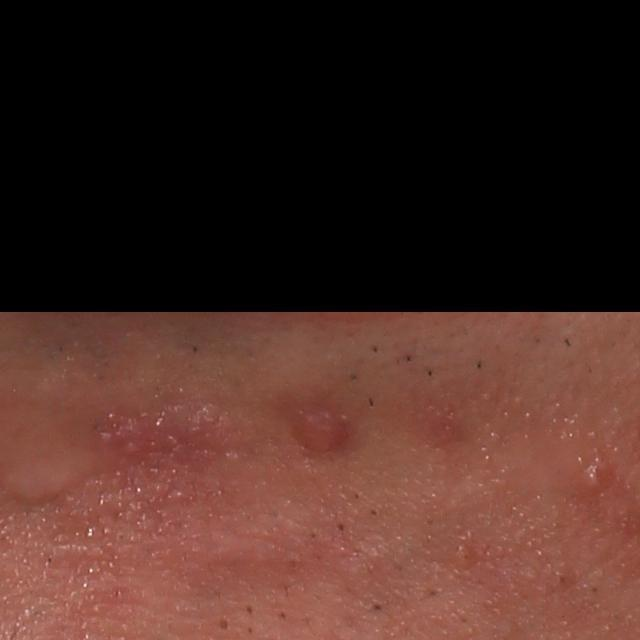comedo: (213, 615, 235, 635)
papule: (291, 399, 350, 462), (571, 450, 630, 497)
